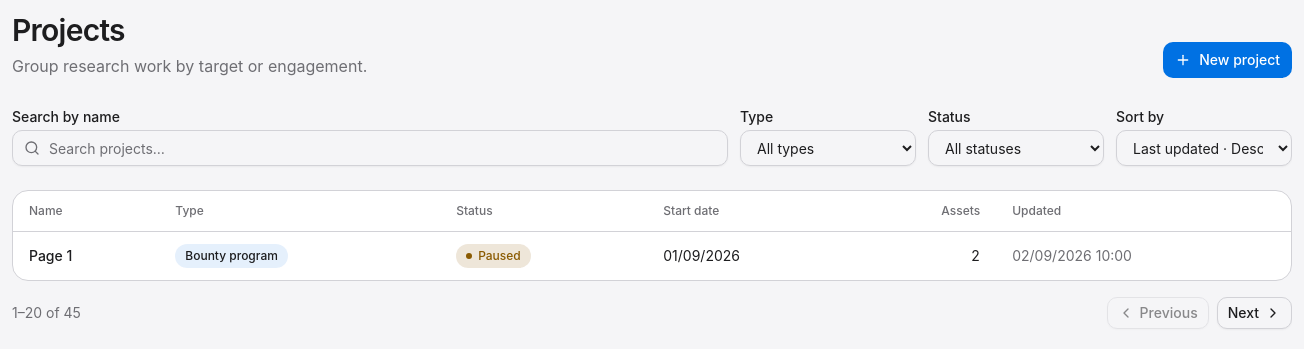
projects list › paginates on the server
Expected: the text "1–20 of 45" is shown, [12,303,81,323]
Click the button "Next": (1254, 313) [1217,297,1292,329]
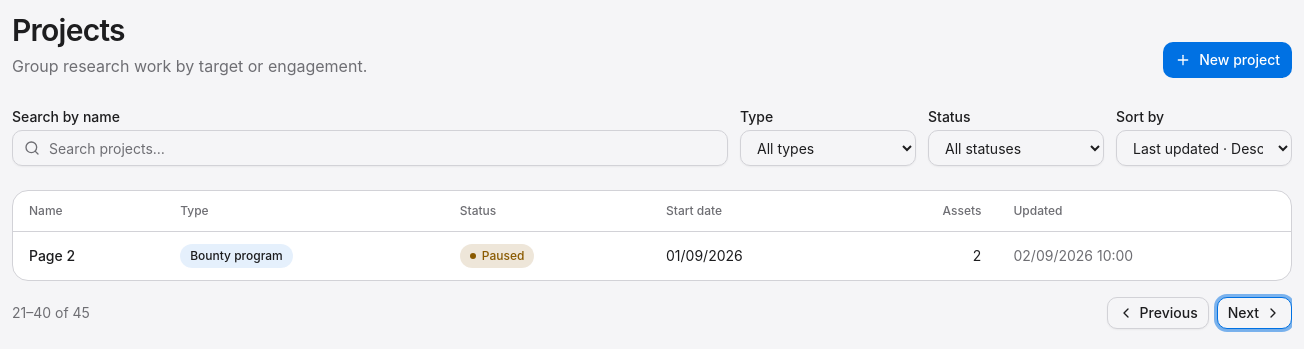
Expected: the text "21–40 of 45" is shown, [12,303,90,323]
